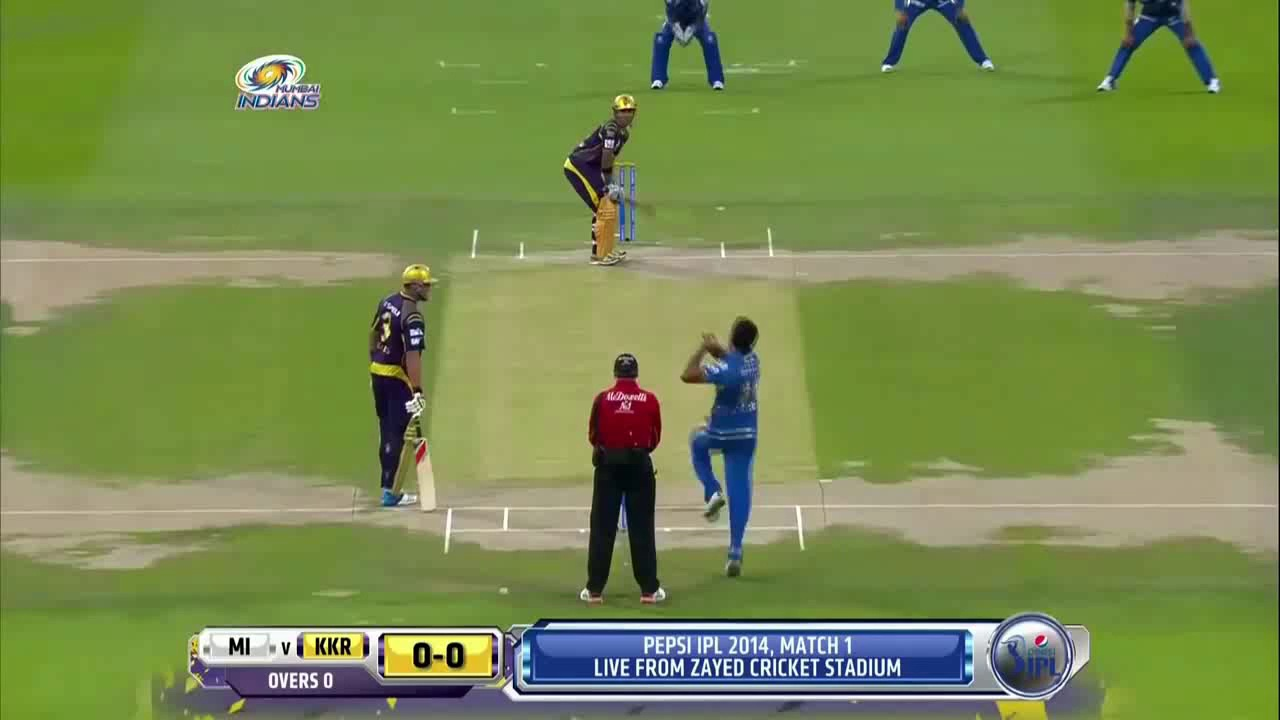bat: (409, 431, 438, 512)
